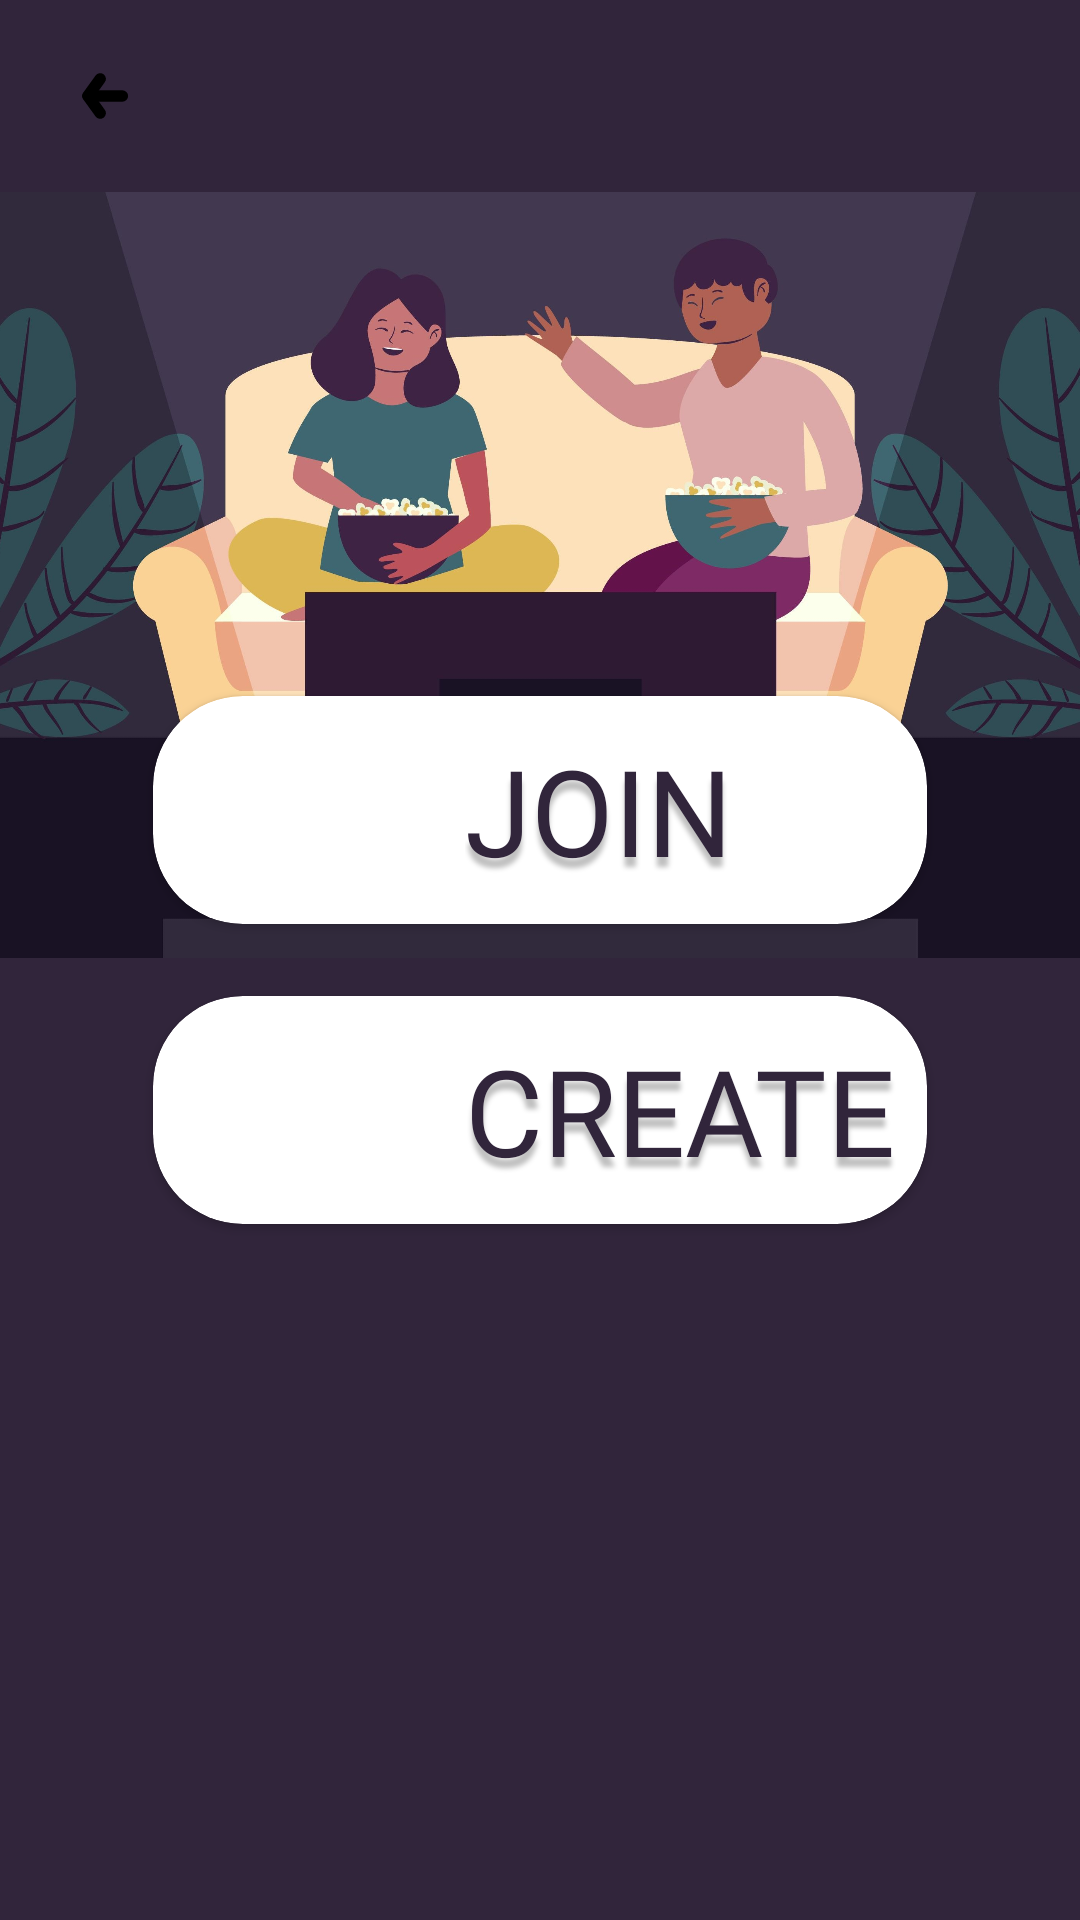

Named icons in this screenshot (1080*1920) and their centers, (x=x, y=y):
back arrow: (x=105, y=96)
